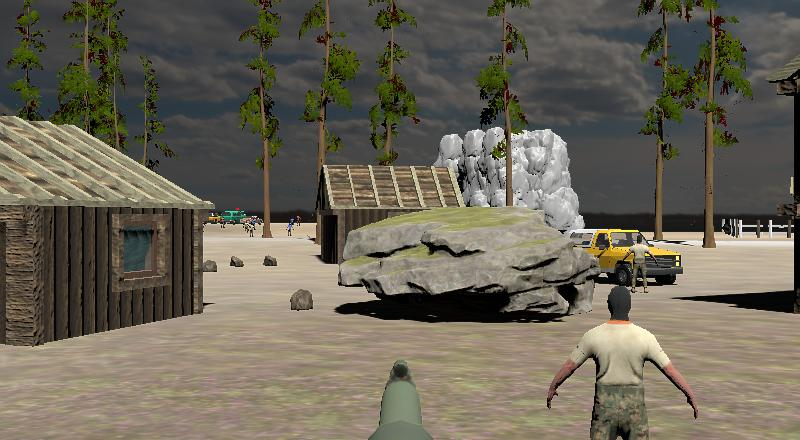House: (1, 110, 212, 349), (316, 165, 461, 261)
Human: (541, 287, 703, 440), (623, 235, 658, 294), (286, 220, 294, 240)
car: (569, 227, 686, 288), (222, 209, 245, 223)
